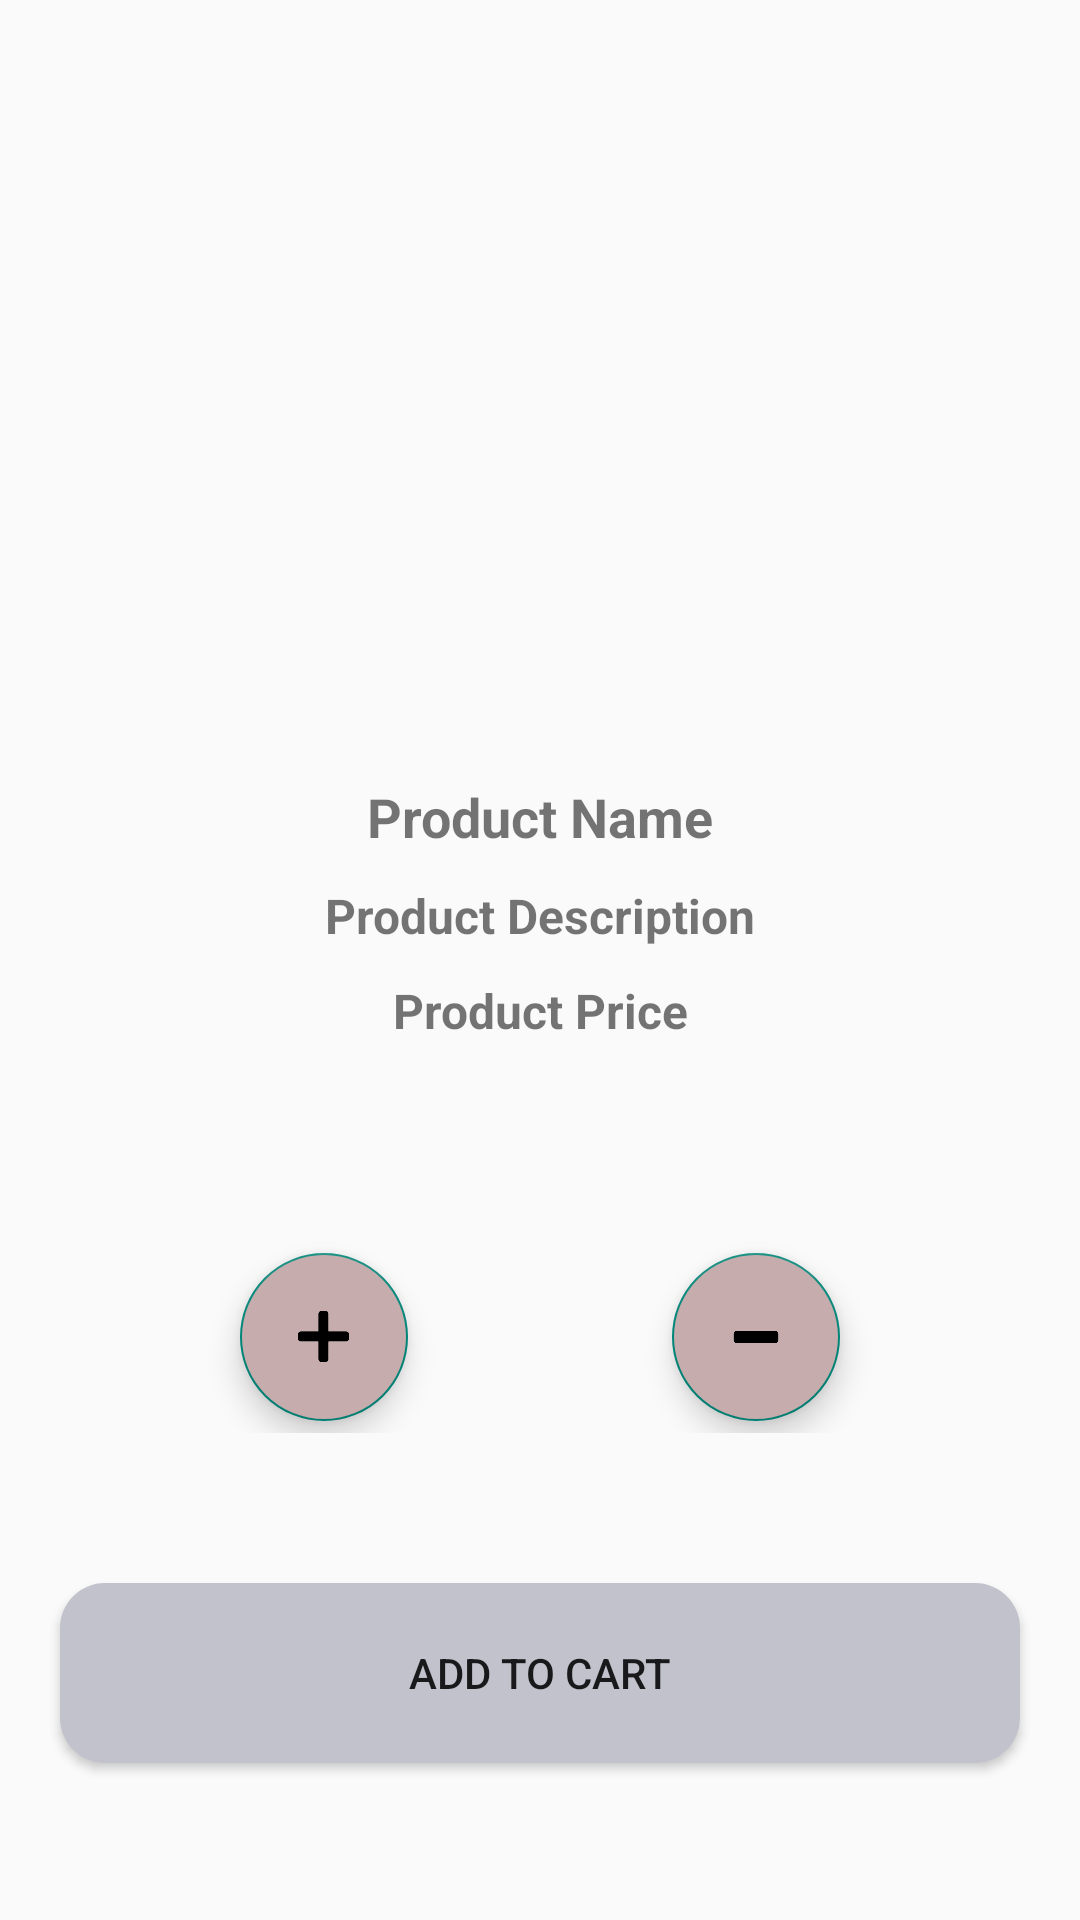

Icons on this 1080×1920 Android screen, each with its box as [x1, y1, x2, y2]:
minus: [672, 1253, 840, 1421]
plus: [240, 1253, 408, 1421]
